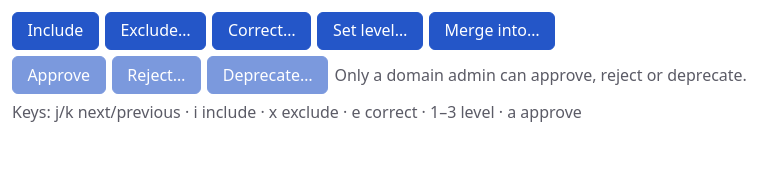
it: Actions › failure_is_shown
Click the button "Include" at (55, 31), box [12,12,99,50]
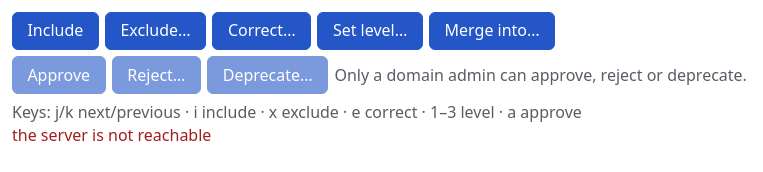
Result: the message reads "the server is not reachable" at [12,124,211,146]
